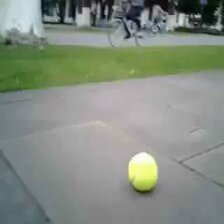tennis: (127, 152, 158, 193)
